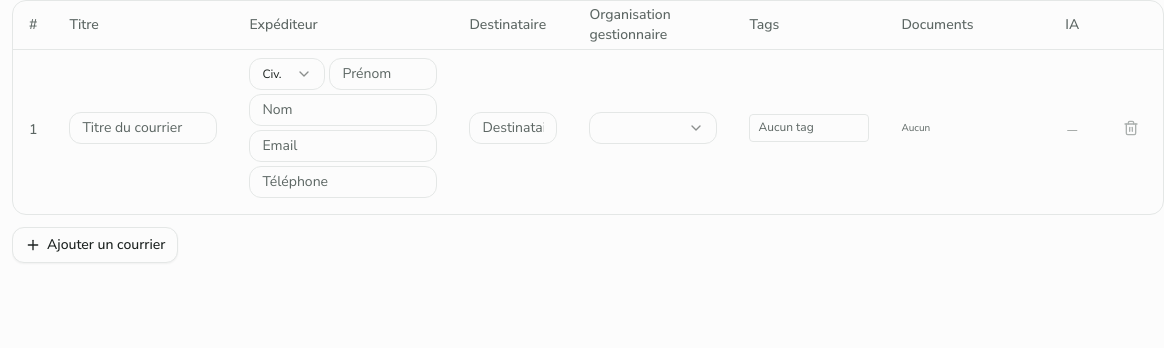
Test: BulkStep4Verify — expéditeur › annonce la création quand le référentiel ne connaît pas l'expéditeur
This screenshot has width=1164, height=348.
Type "Inconnue" into the field named "Nom de l'expéditeur" at (343, 110), box [249, 94, 437, 126]
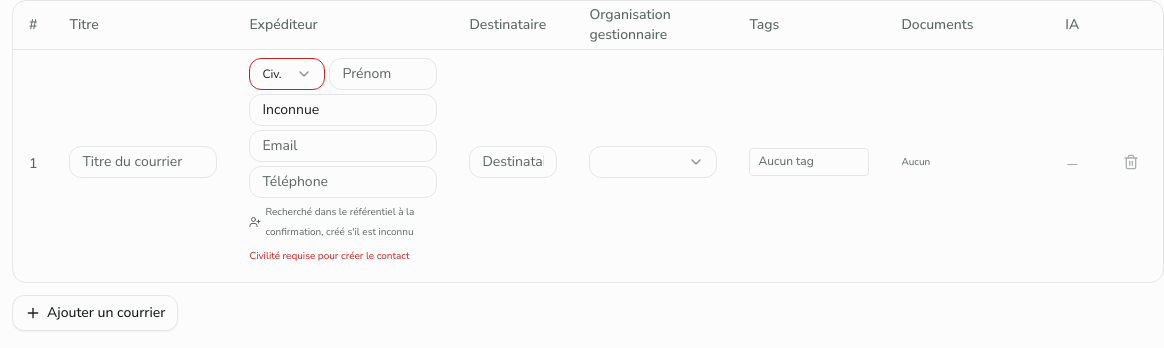
Leave the field named "Nom de l'expéditeur", box [249, 94, 437, 126]
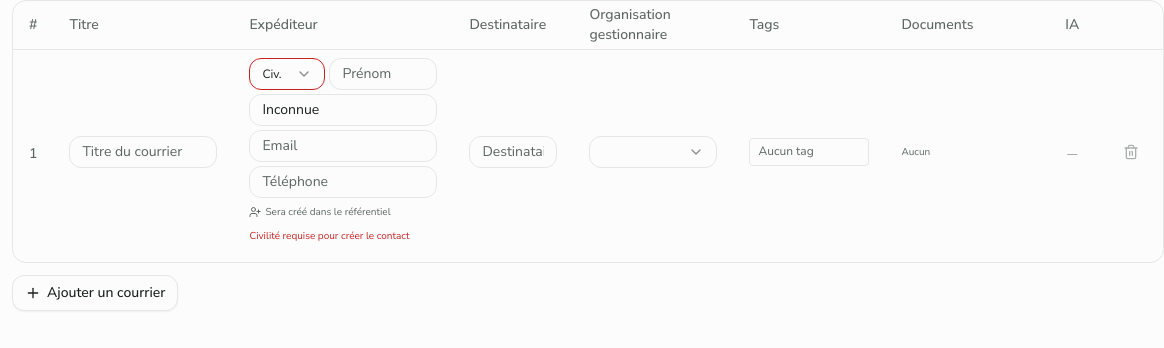
Expected: the text "Sera créé dans le référentiel" is shown, [249, 204, 391, 218]
